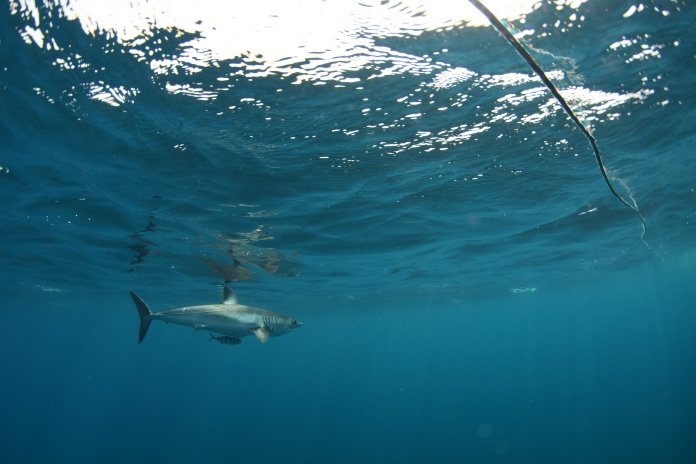Mako: (121, 284, 313, 352)
